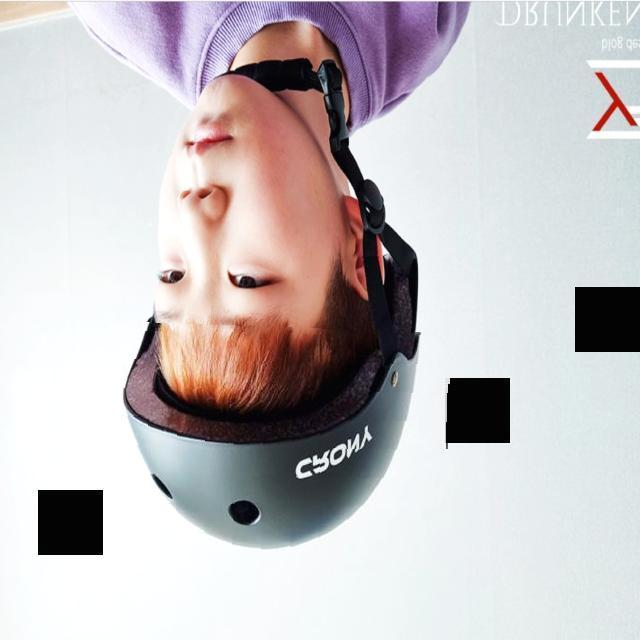helmet: (104, 324, 449, 571)
